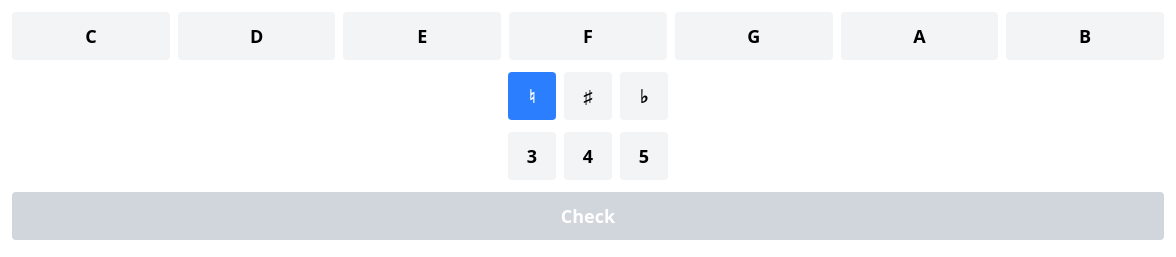
Scenario: NotePicker › resets selections after submit
The image size is (1176, 257).
Click the button named "Note C".
click(91, 36)  # box [12,12,170,60]
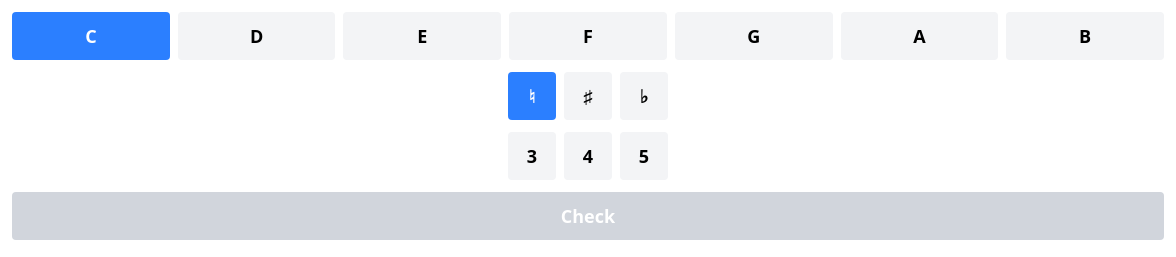
Click the button named "Octave 4".
click(588, 156)  # box [564,132,612,180]
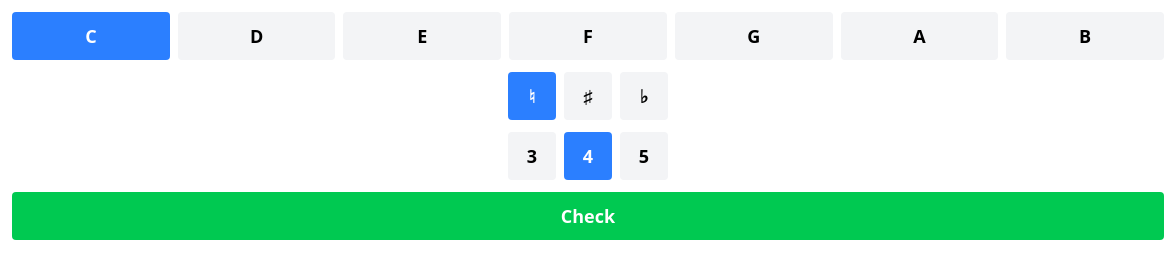
Click the button with aria-label "Submit answer".
click(588, 216)  # box [12,192,1164,240]
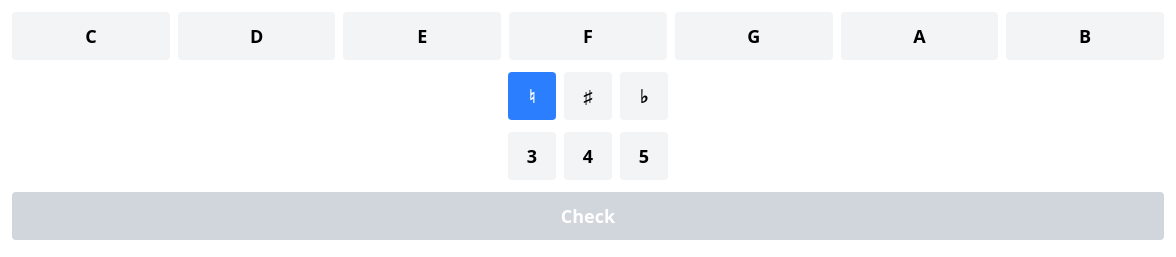
Check: the button with aria-label "Submit answer" is disabled, box [12,192,1164,240]
